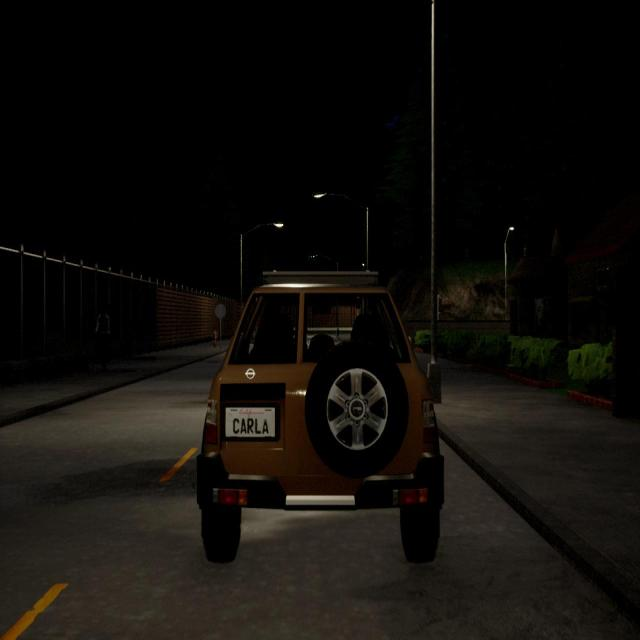Pedestrian: (94, 306, 113, 371), (209, 326, 219, 350)
Traffic_Signs: (213, 304, 227, 320)
Vehicle: (195, 270, 446, 566)
traffic_light: (437, 291, 443, 316), (355, 292, 362, 312)
